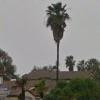Palm tree: (39, 2, 72, 71)
